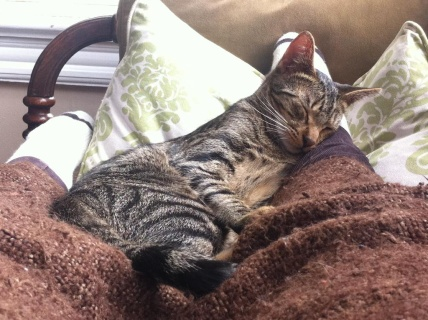Cat: (45, 26, 384, 295)
